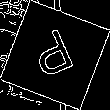P_SE: (28, 25, 82, 85)
